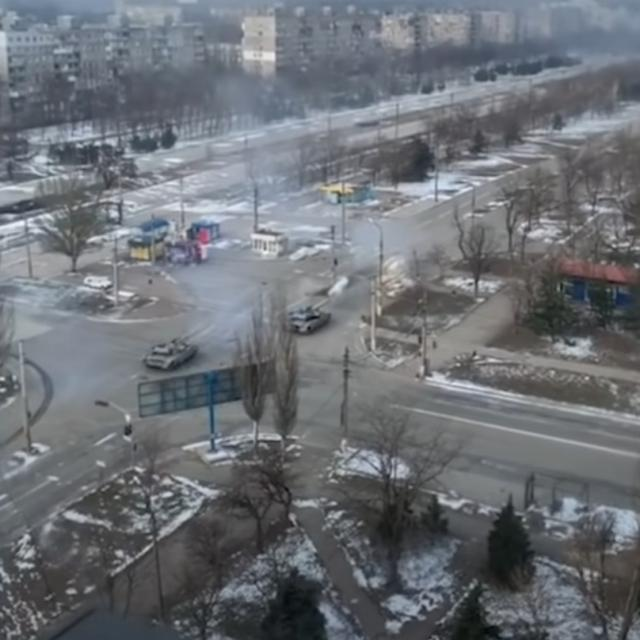MBT: (140, 329, 206, 375), (282, 296, 333, 338)
Vehicle: (83, 274, 112, 295)
